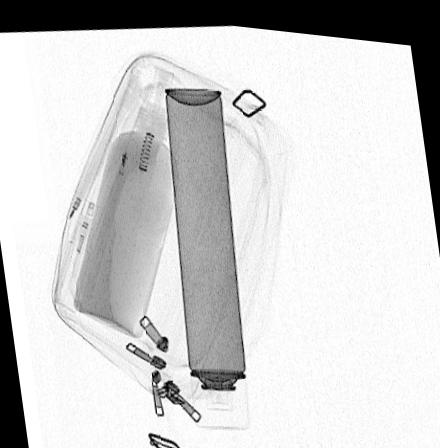Sprayer: (162, 82, 251, 427)
